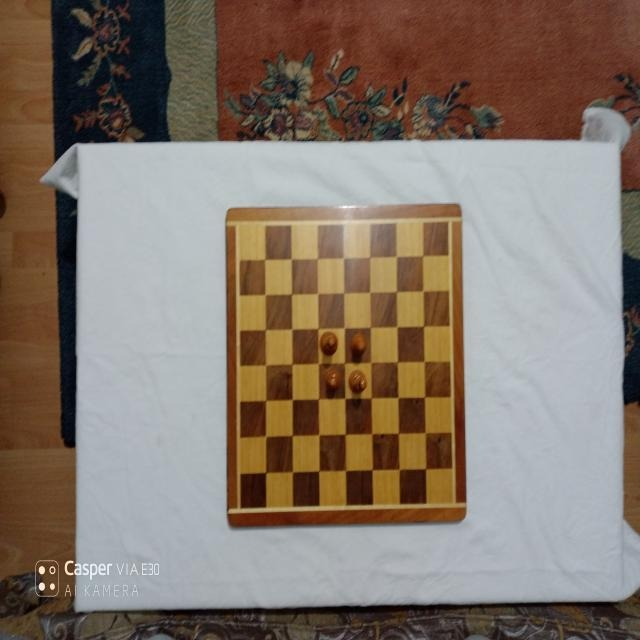white-bishop: (348, 369, 367, 394), (323, 366, 341, 392)
white-pawn: (318, 331, 337, 356), (349, 331, 367, 356)
